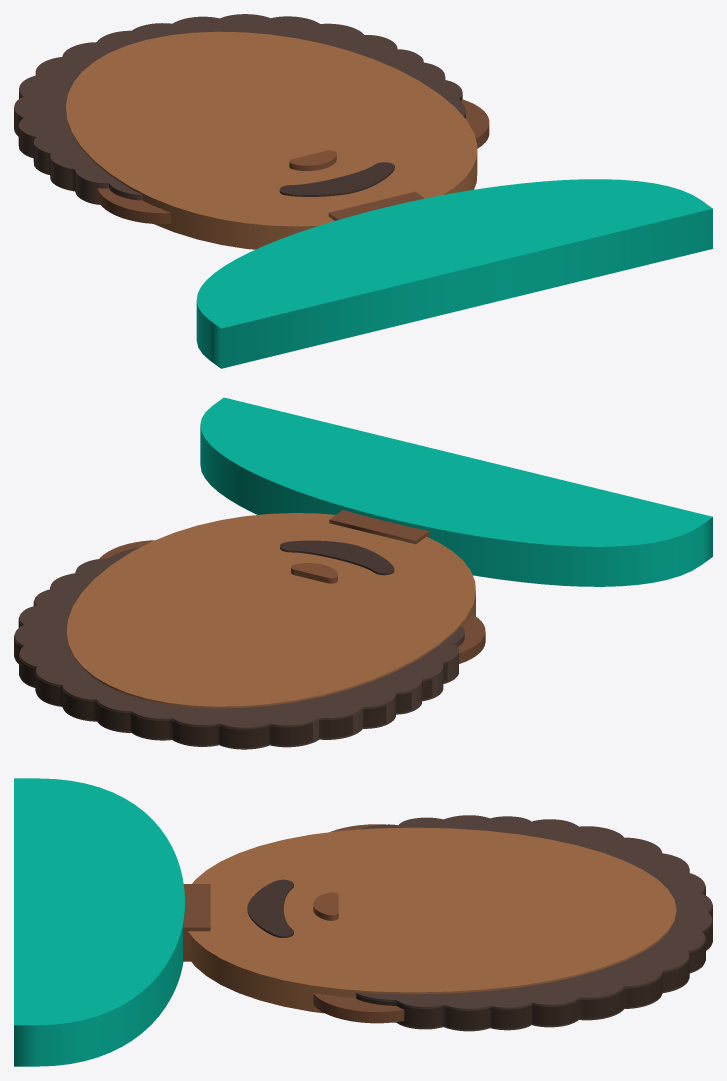
Rendered from emoji_u1f468_1f3fe_200d_1f9b1.glb.
The picture shows the model from 3 angles, top to bottom: view 1: azimuth 30°, elevation 25°; view 2: azimuth 150°, elevation 25°; view 3: azimuth 270°, elevation 25°; orthographic projection. The views are drawn at different scales.
Parts seen in each view (by area): view 1: emoji_u1f468_1f3fe_200d_1f9b1; view 2: emoji_u1f468_1f3fe_200d_1f9b1; view 3: emoji_u1f468_1f3fe_200d_1f9b1.
Part boxes in pixels (x1=…): emoji_u1f468_1f3fe_200d_1f9b1: x1=14, y1=14, x2=712, y2=368; emoji_u1f468_1f3fe_200d_1f9b1: x1=14, y1=397, x2=712, y2=749; emoji_u1f468_1f3fe_200d_1f9b1: x1=14, y1=778, x2=712, y2=1066.
Size of the model in its own units: 0.0282 by 0.0022 by 0.0337.
